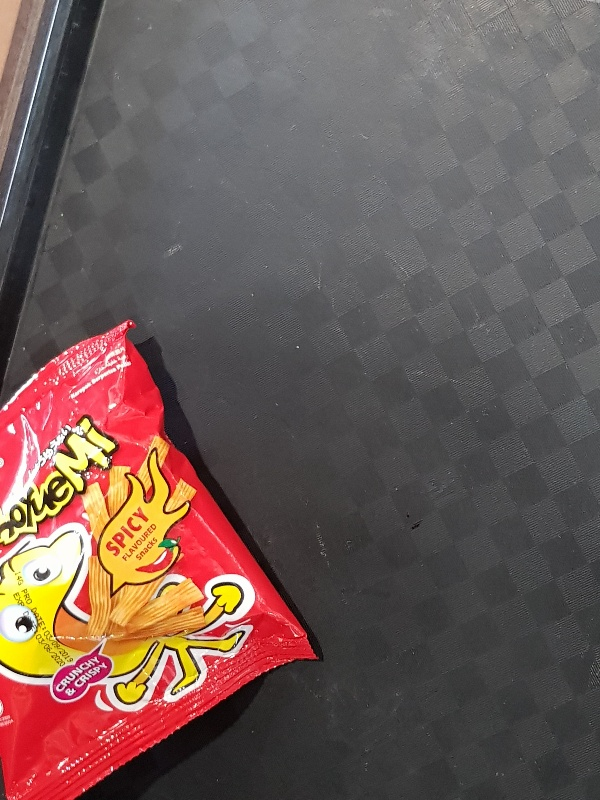ShoyueMi Spicy Flavoured Snacks: (1, 320, 318, 800)
